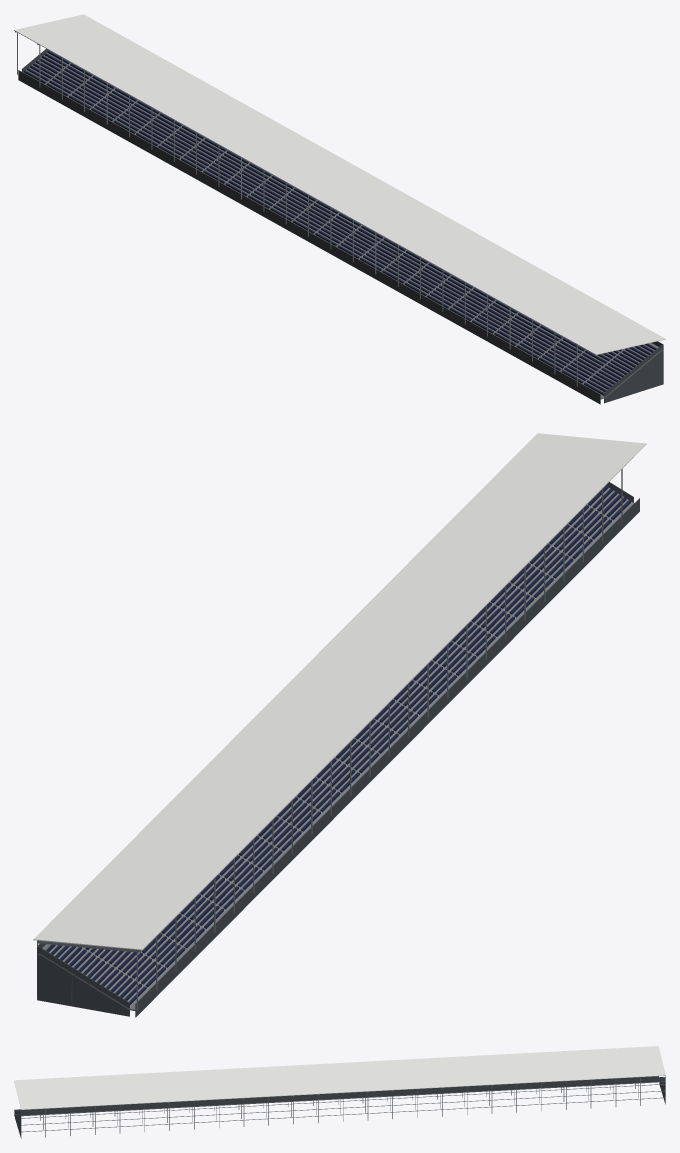
Rendered from sil_stand_becketts.glb.
3 views of the same model, one above another, from view 1: azimuth 30°, elevation 25°; view 2: azimuth 150°, elevation 25°; view 3: azimuth 270°, elevation 25° (orthographic). The views are drawn at different scales.
Visible parts, largest first — view 1: silverstone-becketts; view 2: silverstone-becketts; view 3: silverstone-becketts.
Part boxes in pixels (left/top/right/bottom): silverstone-becketts: left=14, top=14, right=665, bottom=404; silverstone-becketts: left=33, top=433, right=646, bottom=1017; silverstone-becketts: left=14, top=1046, right=665, bottom=1138.
Bounding box in the file's own units: 44.67 × 12.24 × 209.
